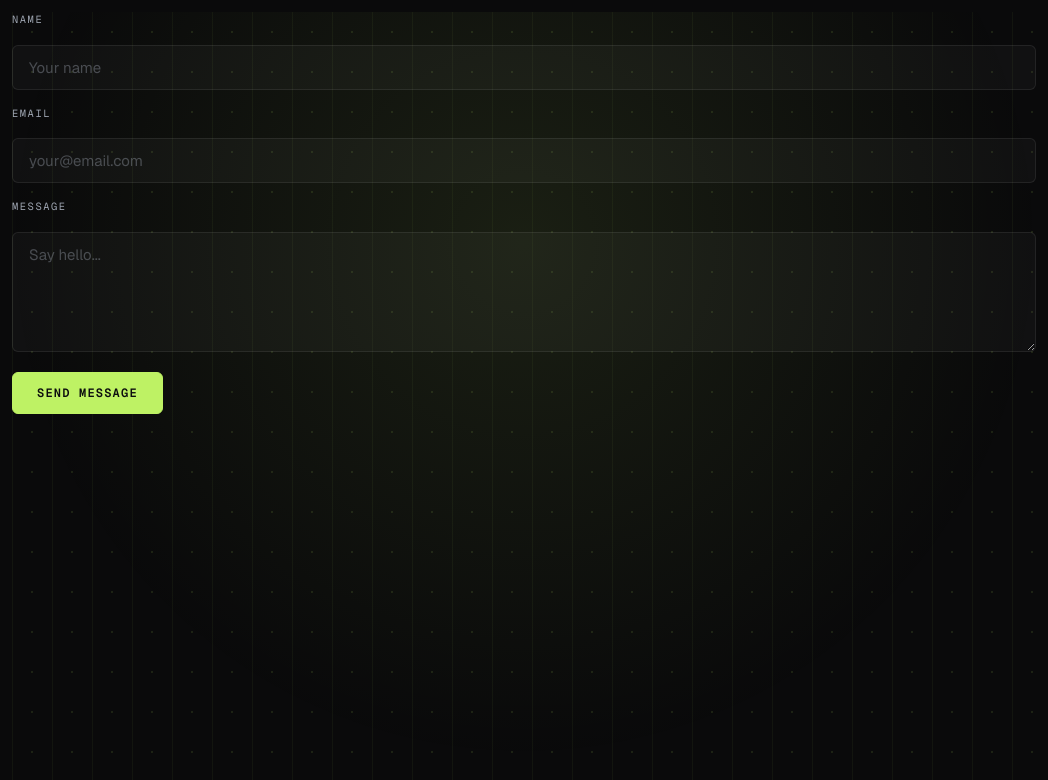
Test case: ContactForm › shows validation errors on empty submit
The width and height of the screenshot is (1048, 780).
Click the button "Send message". click: (87, 393)
box: [12,372,163,414]
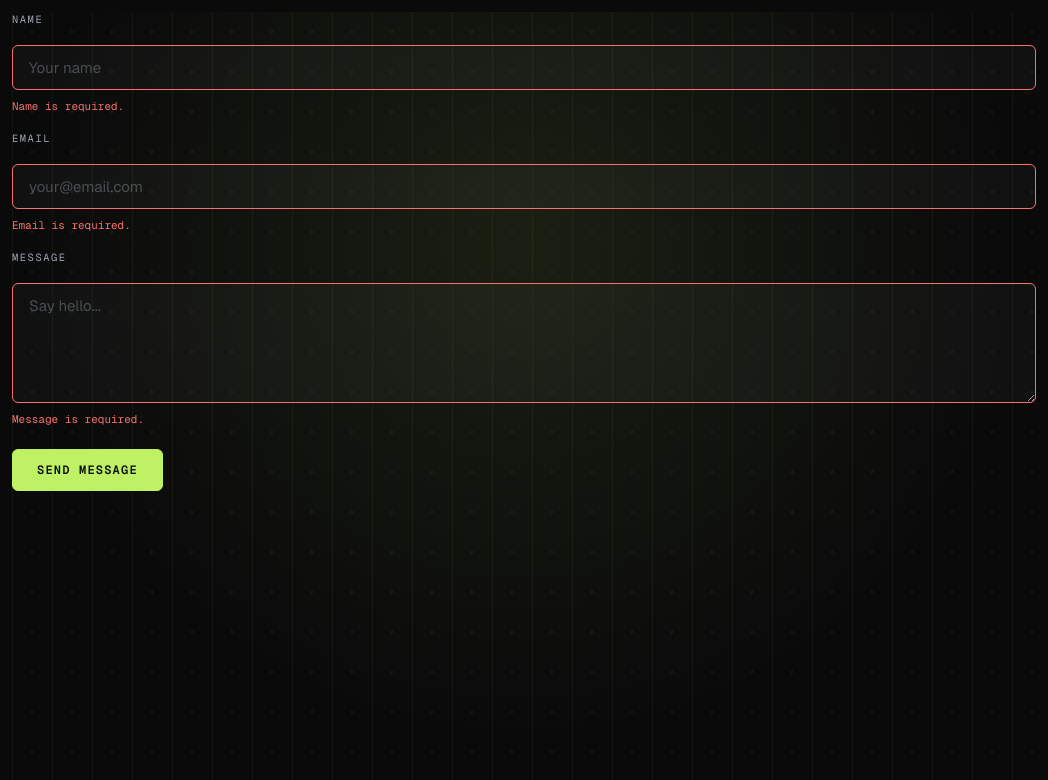
Now the text "Name is required." is shown, box [12,99,124,113]
Now the text "Email is required." is shown, box [12,218,131,232]
Now the text "Message is required." is shown, box [12,412,144,426]
